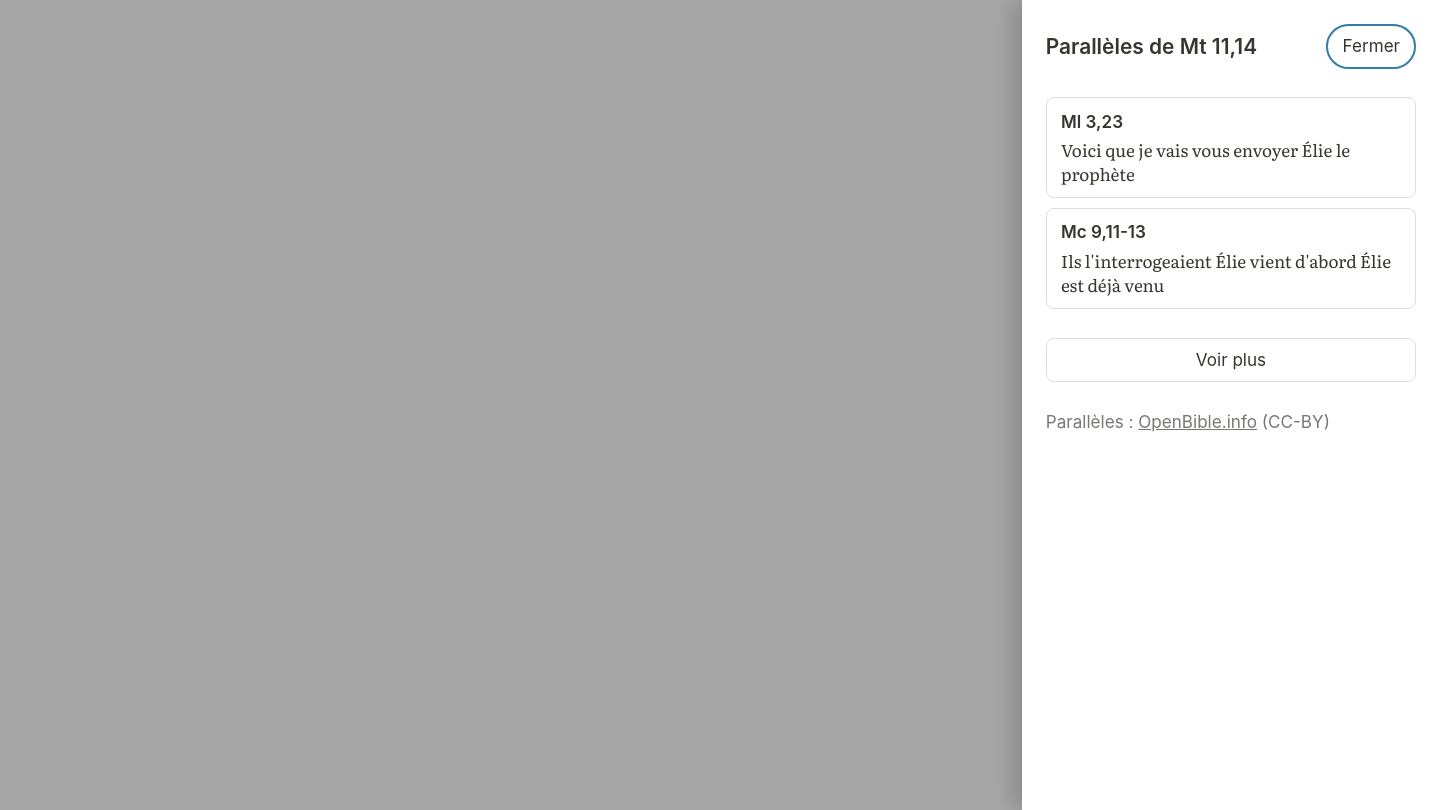
Scenario: ParallelsPanel › « Voir plus » ajoute la suite, puis disparaît une fois tout chargé ; « … » si la plage est coupée
Click the button "Voir plus" at (1231, 360), box [1046, 338, 1416, 382]
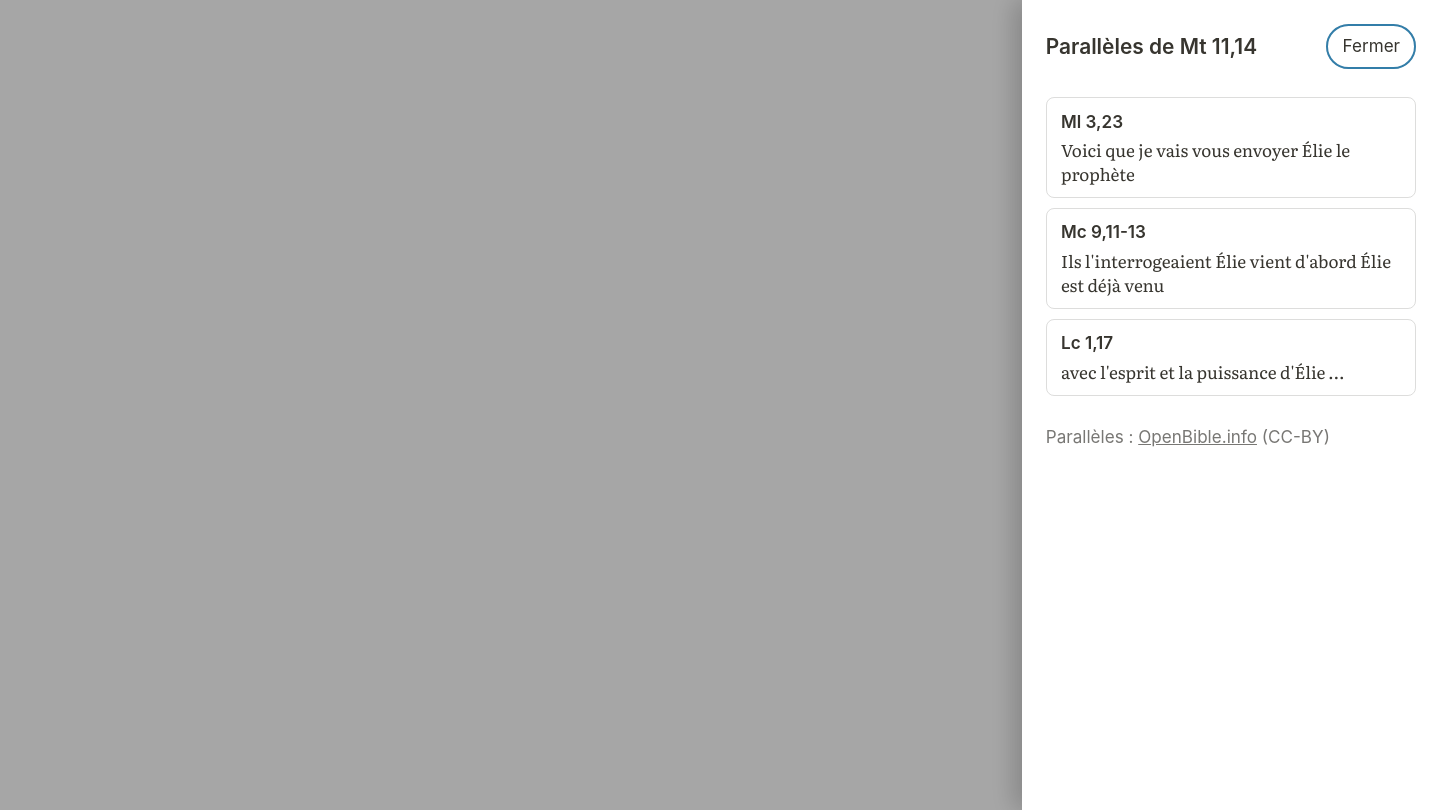
Check: the link "Lc 1,17 avec l'esprit et la puissance d'Élie …" is shown, box [1046, 319, 1416, 396]
Check: the number of list items is 3, box [1046, 97, 1416, 198]; [1046, 208, 1416, 309]; [1046, 319, 1416, 396]
Check: the button "Voir plus" is gone
